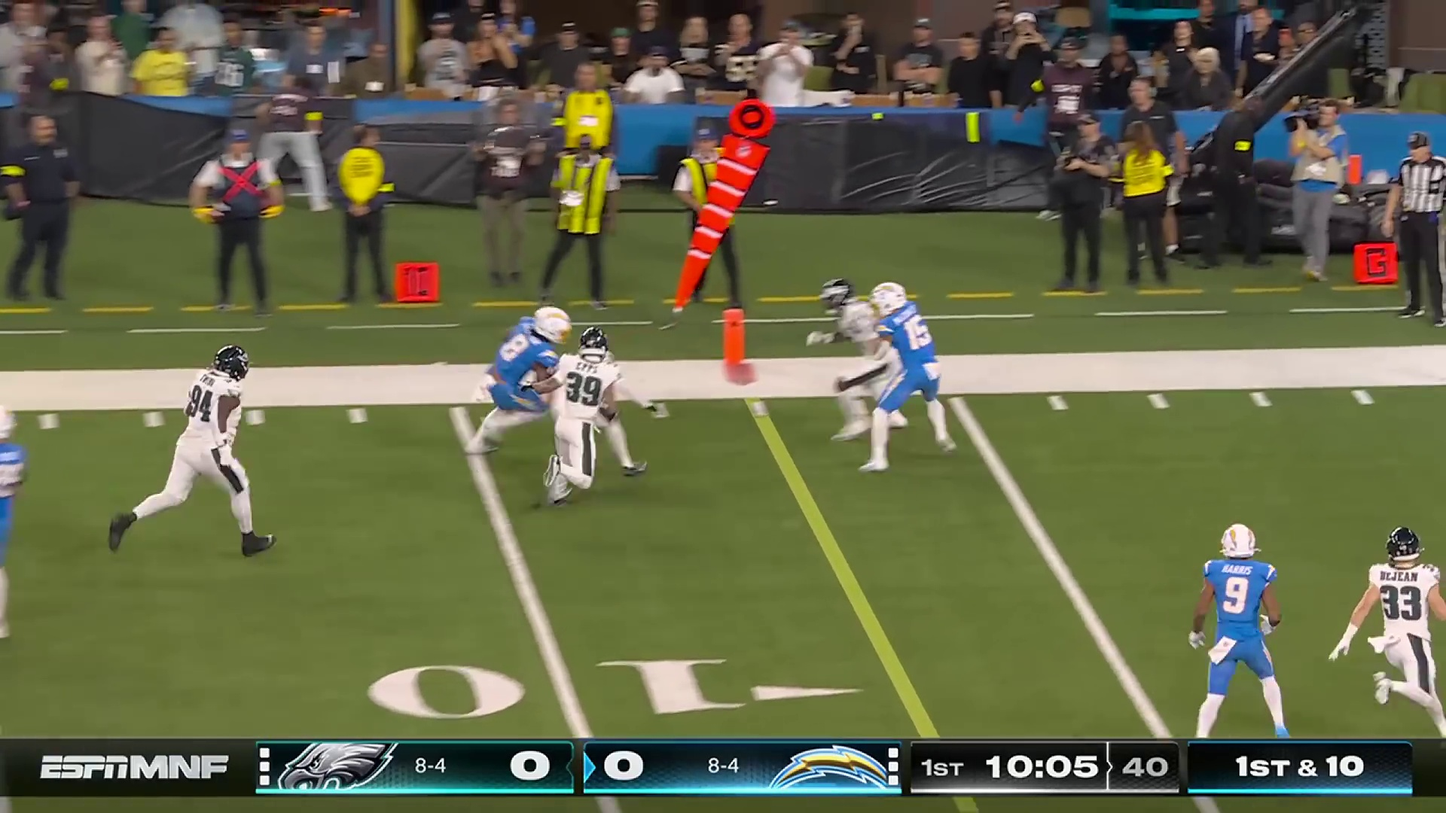ball: (528, 361, 555, 386)
player: (145, 339, 258, 565), (1193, 510, 1295, 751), (1353, 516, 1446, 764), (868, 258, 965, 459), (545, 320, 636, 511), (820, 285, 908, 455), (486, 313, 582, 452), (0, 395, 31, 631)
